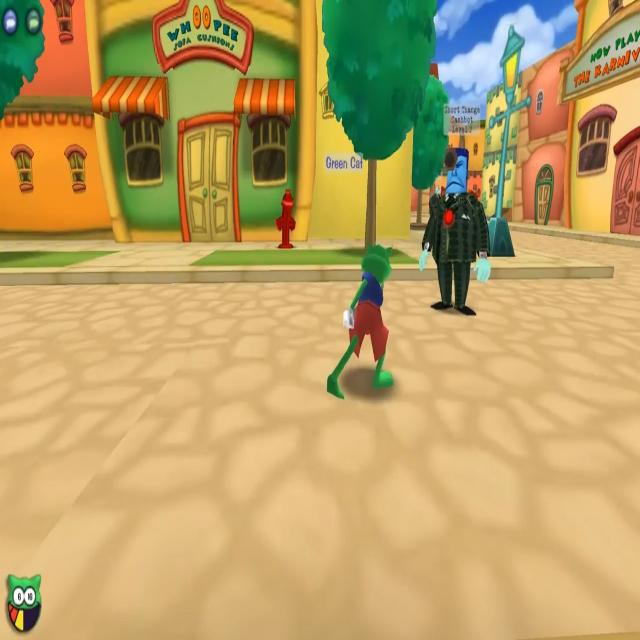shortchange: (419, 100, 493, 320)
